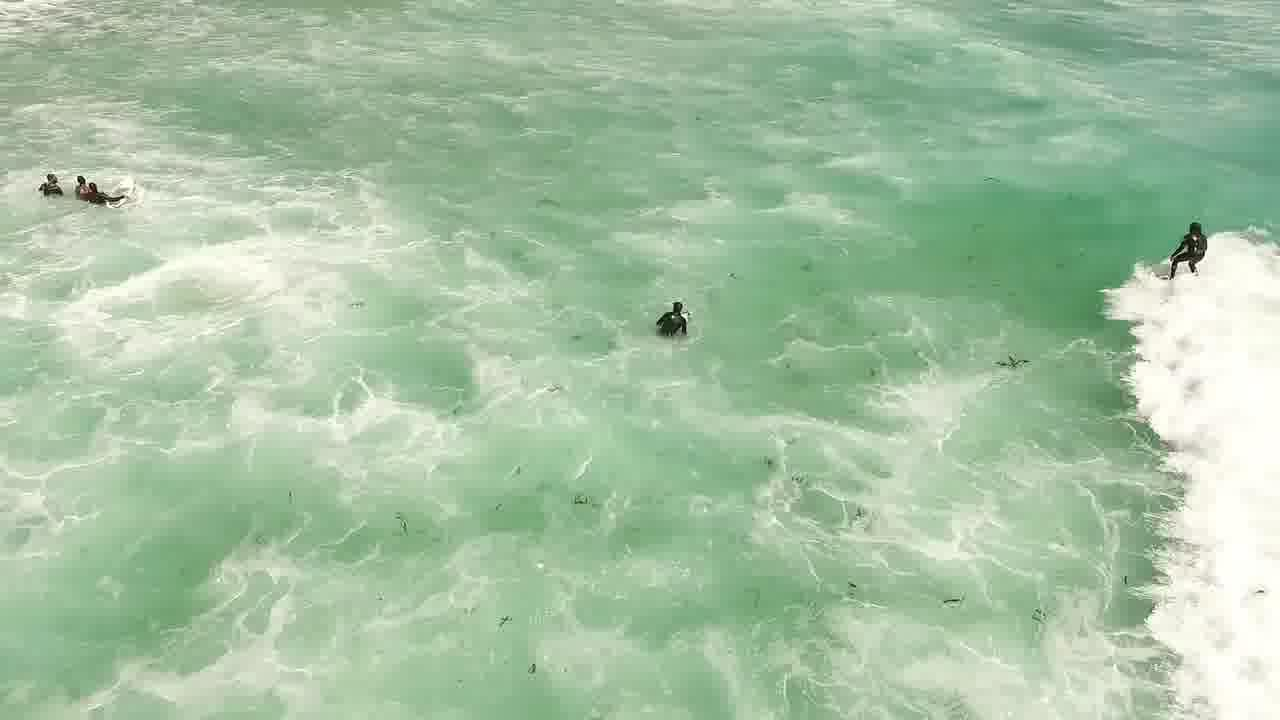human: (639, 285, 700, 357)
